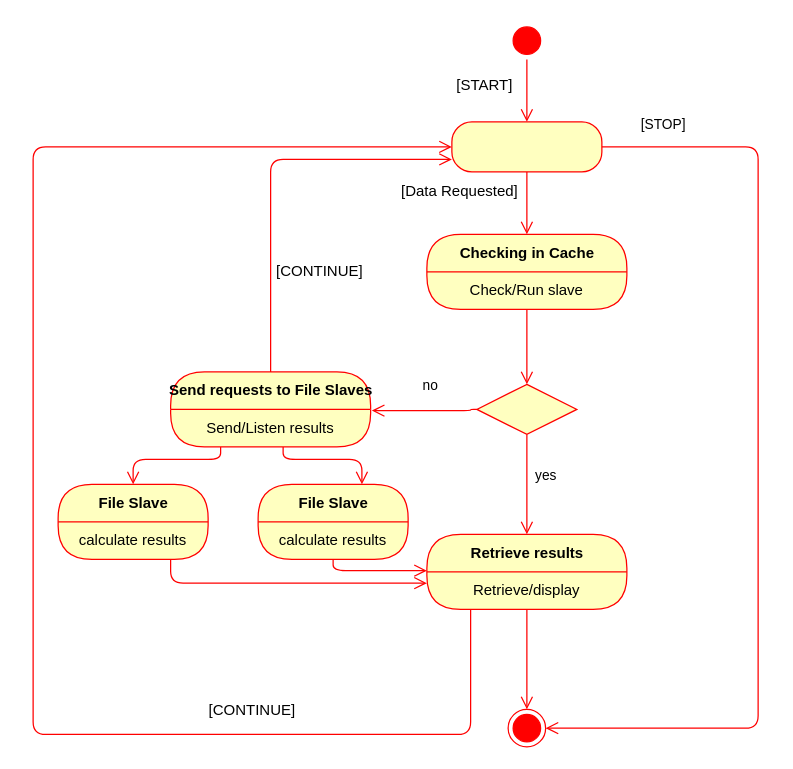
This 793x769 diagram has some shape labels left out. Each missing label, with the centre of its shape:
Exists in cache: the point at 526,408
Master server running: the point at 526,146
